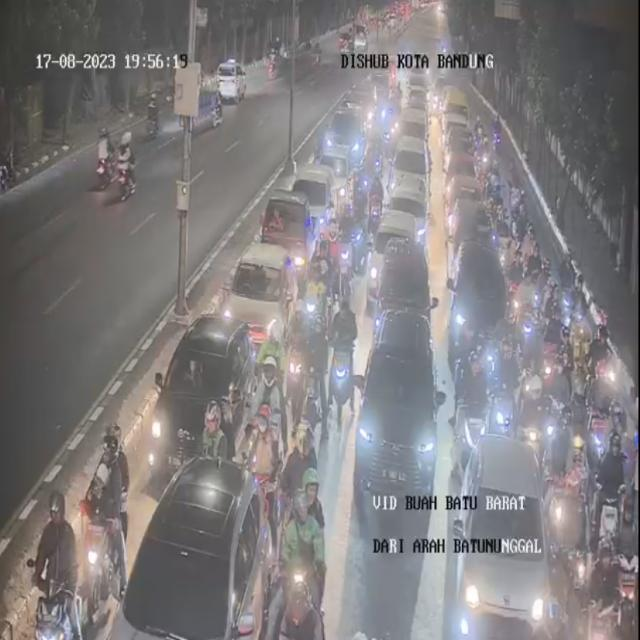bunch of motorcycle: (452, 212, 632, 640)
cars: (123, 459, 267, 640), (446, 436, 547, 640), (146, 312, 255, 497), (352, 306, 443, 521), (227, 240, 299, 356), (448, 243, 505, 364), (370, 235, 438, 330), (263, 189, 315, 282), (368, 205, 417, 296), (447, 195, 489, 272), (294, 164, 337, 229), (393, 116, 428, 186), (392, 169, 428, 236), (320, 139, 354, 204), (332, 107, 366, 167), (445, 173, 484, 220), (446, 150, 476, 186), (447, 130, 471, 159), (444, 113, 468, 139), (445, 124, 469, 148), (444, 106, 467, 126)
motorcycle: (78, 430, 134, 630), (280, 489, 327, 640), (34, 493, 78, 640), (557, 472, 590, 628), (330, 302, 362, 426), (459, 352, 490, 478), (597, 434, 625, 566), (250, 413, 280, 531), (282, 413, 319, 505), (488, 338, 517, 452), (586, 538, 617, 640), (617, 498, 638, 640), (309, 307, 332, 431), (281, 308, 308, 412), (200, 401, 232, 484), (588, 323, 615, 416), (256, 358, 286, 441), (306, 268, 330, 332), (498, 207, 512, 245)
